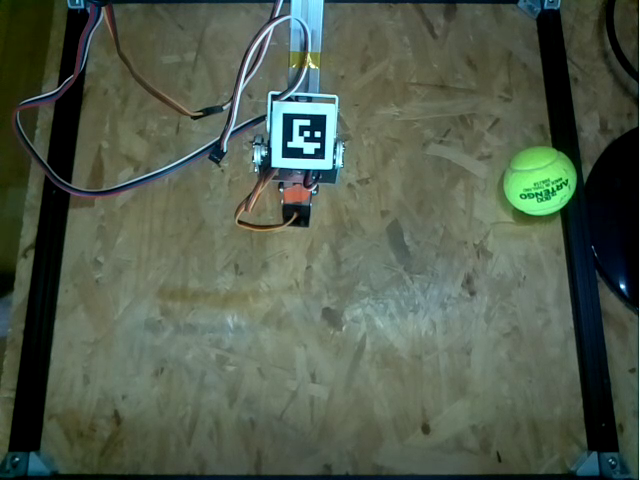tennis_ball: (504, 145, 577, 215)
